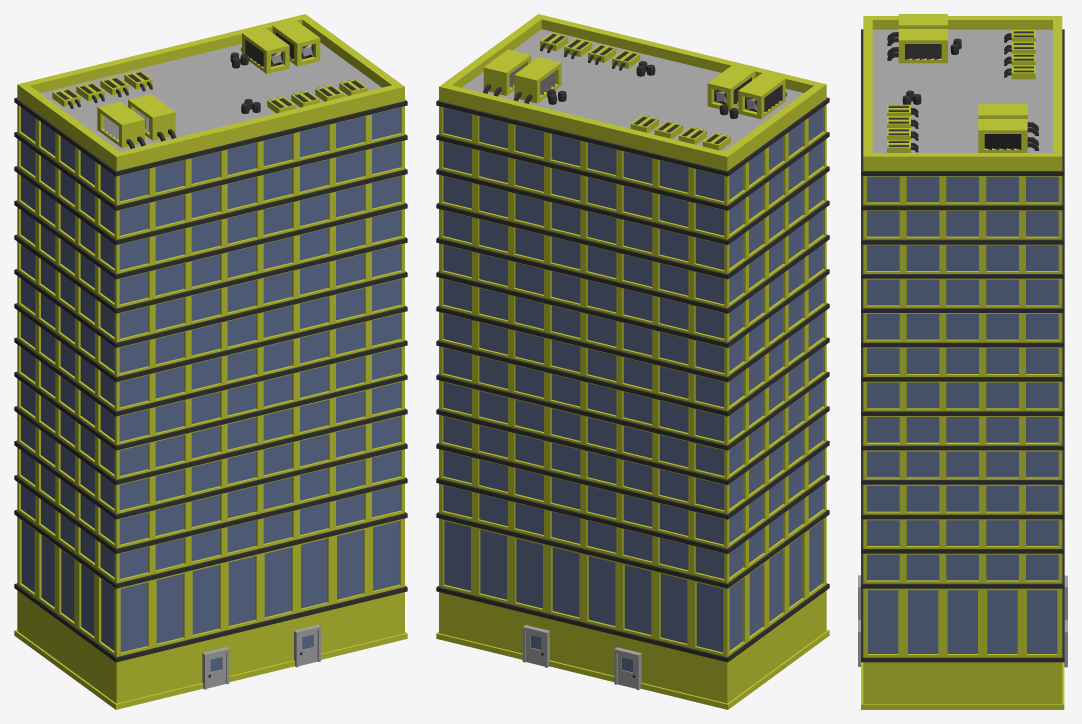
The model's file is Skyscraper1_2.fbx.
3 renders of one model, left to right at view 1: azimuth 30°, elevation 25°; view 2: azimuth 150°, elevation 25°; view 3: azimuth 270°, elevation 25°, orthographic.
Parts seen in each view (by area): view 1: Building2_1.003; view 2: Building2_1.003; view 3: Building2_1.003.
Boxes of the visible parts, x1,y1,x2,y2 form: Building2_1.003: (14,14,407,709); Building2_1.003: (436,14,829,709); Building2_1.003: (858,14,1067,709).
Size of the model in its own units: 1117 by 2067 by 695.
